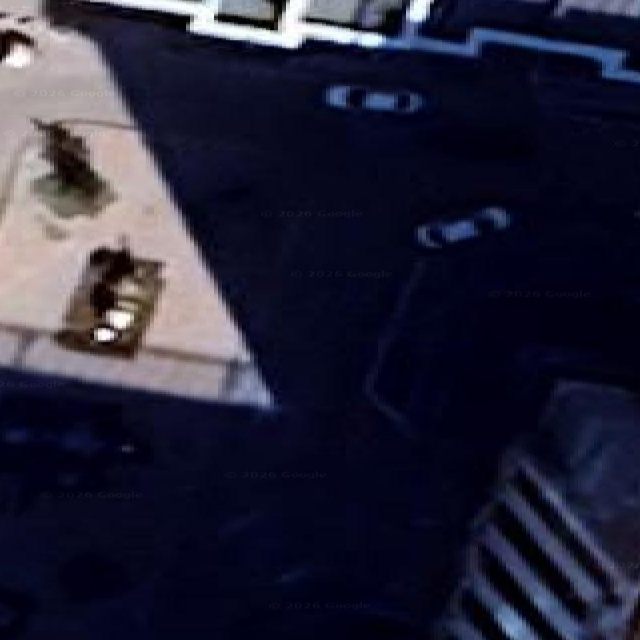car: (56, 247, 162, 356), (415, 206, 511, 248), (325, 85, 425, 113)
